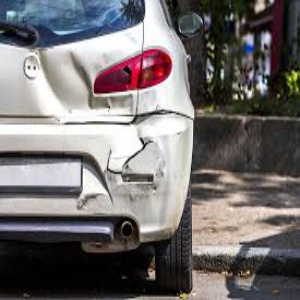bumper: (95, 134, 166, 172)
